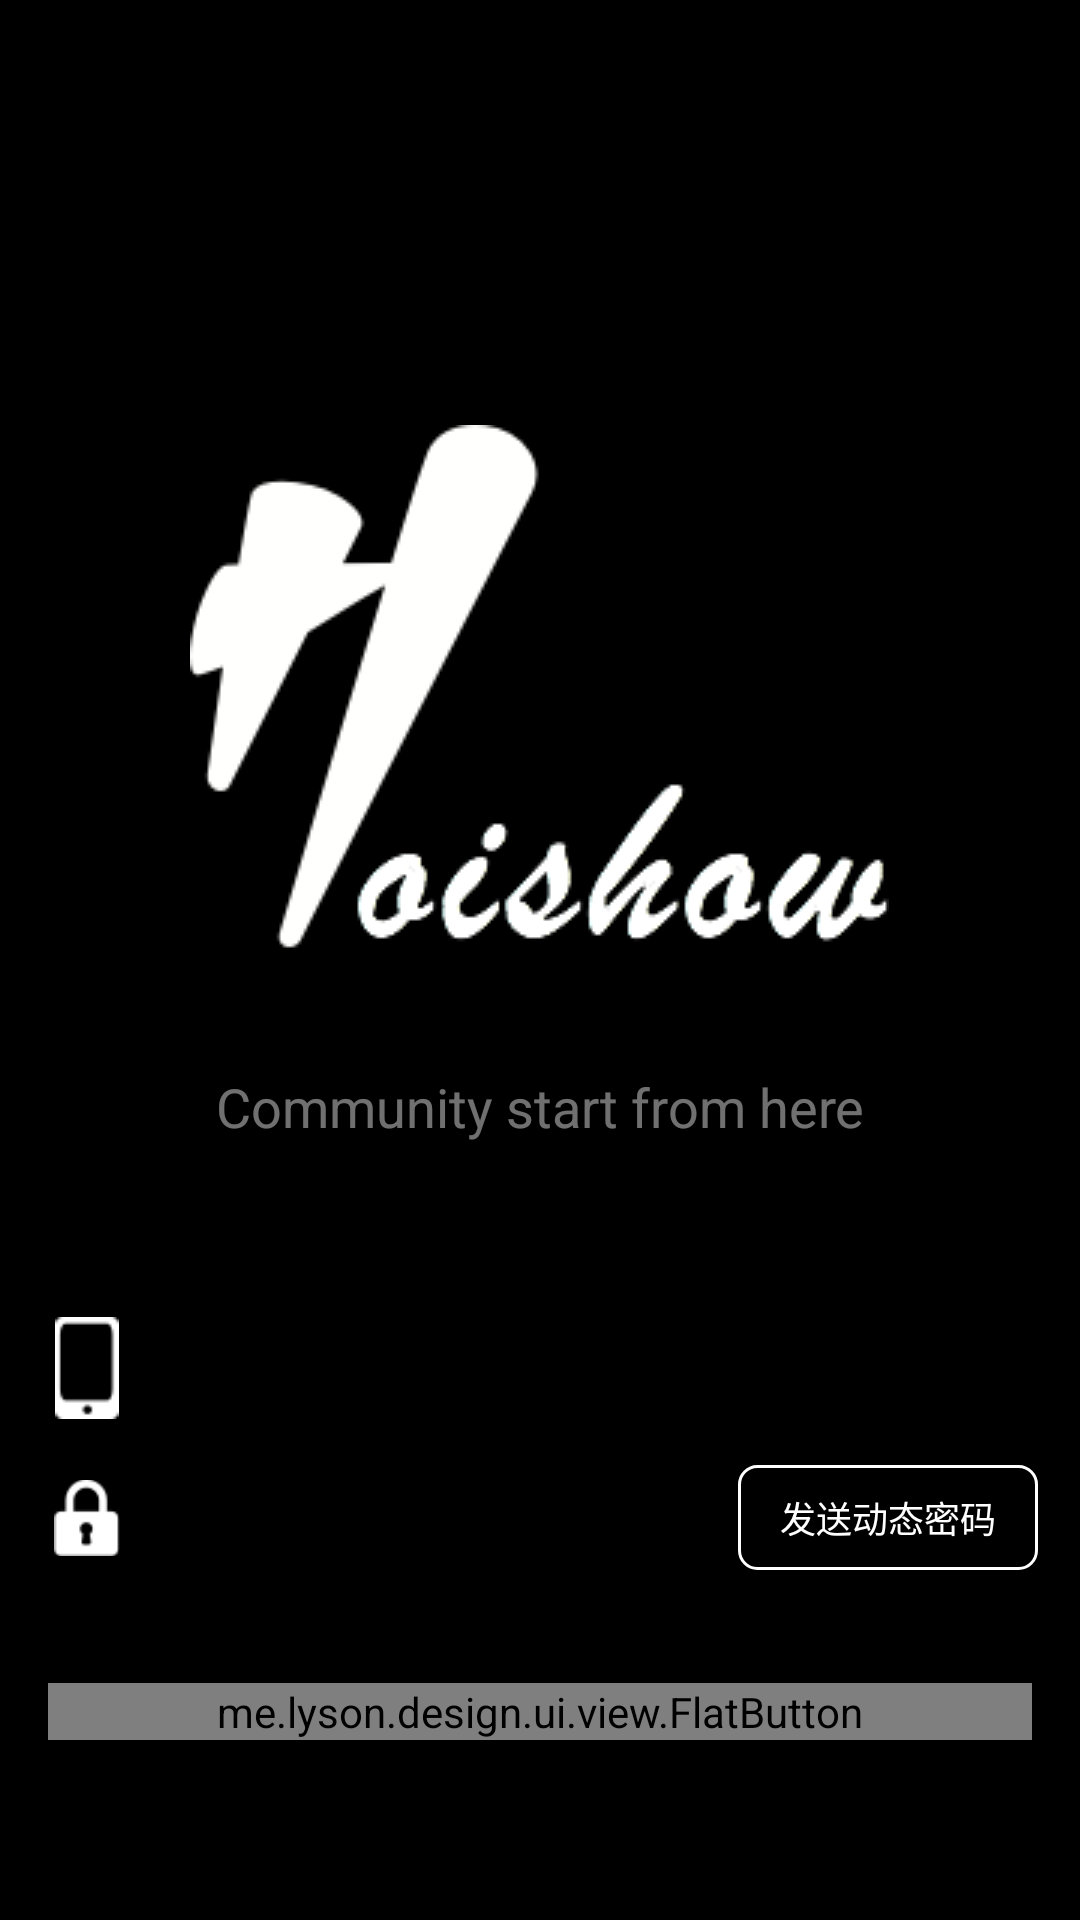

Named icons in this screenshot (1080 × 1920) and their centers, (x=x, y=y):
mobile: (x=87, y=1368)
password: (x=86, y=1518)
